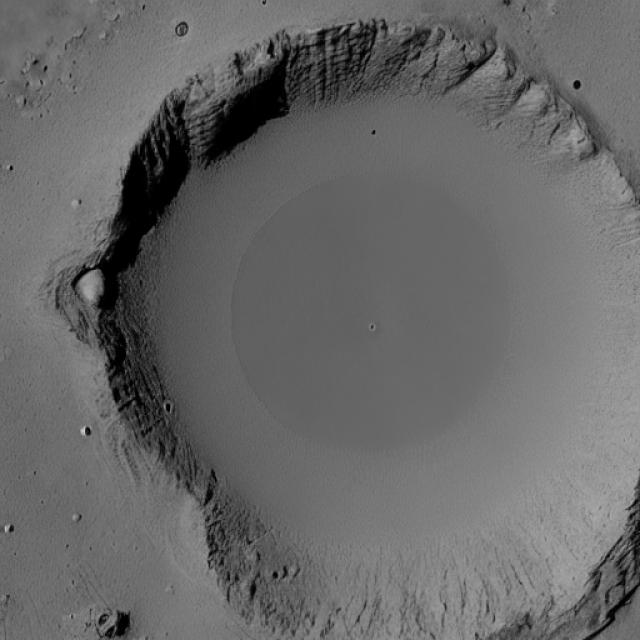crater: (94, 19, 640, 640)
